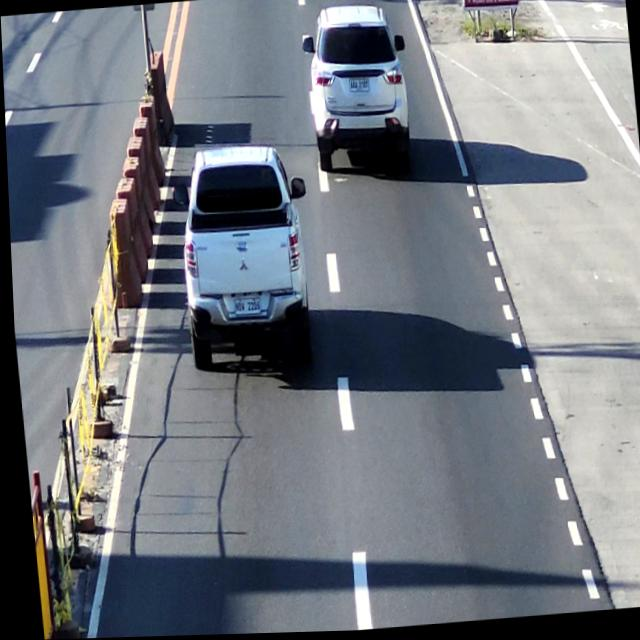Car: (171, 145, 310, 370), (299, 3, 417, 177)
License-Plate: (228, 294, 262, 321), (346, 75, 370, 97)
